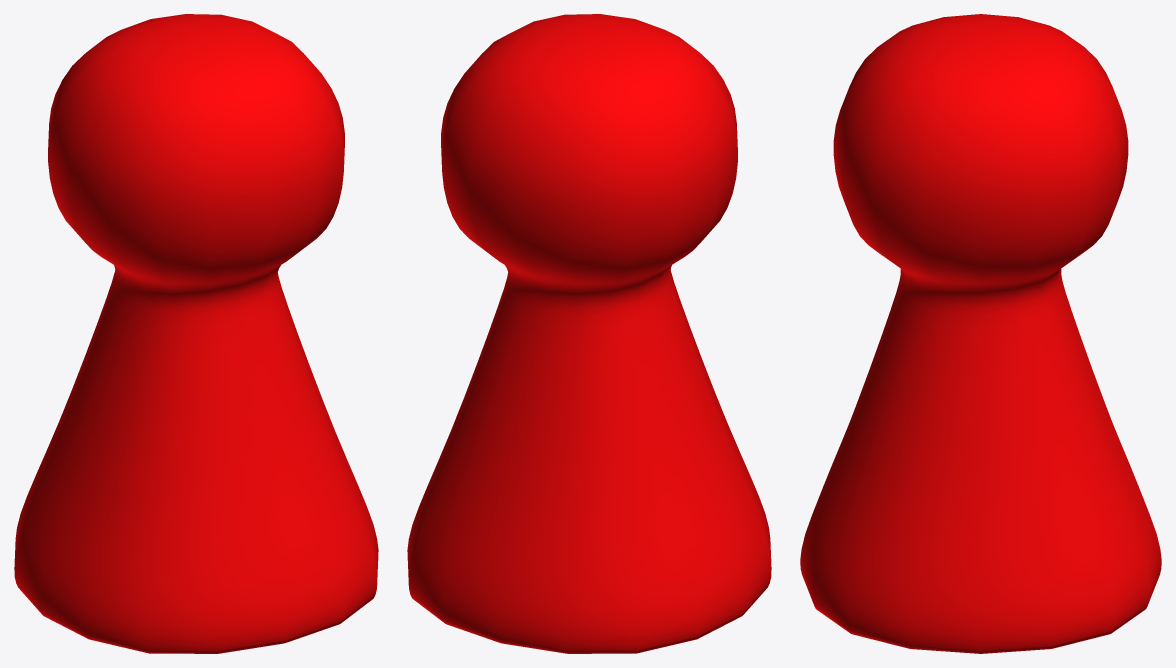
File: Highpolygubbe.obj
3 renders of one model, left to right at view 1: azimuth 30°, elevation 25°; view 2: azimuth 150°, elevation 25°; view 3: azimuth 270°, elevation 25°, orthographic.
Parts seen in each view (by area): view 1: pCube3; view 2: pCube3; view 3: pCube3.
Boxes of the visible parts, x1,y1,x2,y2 form: pCube3: (14,14,378,653); pCube3: (407,14,771,653); pCube3: (800,14,1161,653).
Size of the model in its own units: 178 by 298 by 178.
